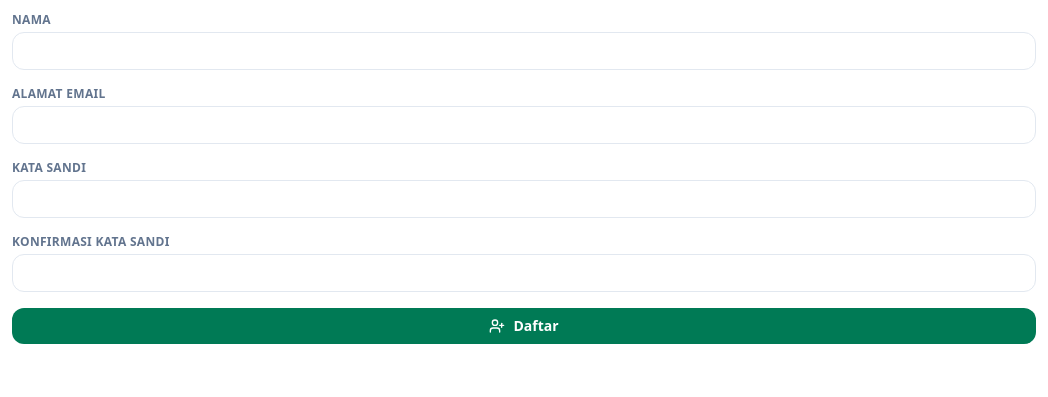
Test: RegisterPage › validasi: konfirmasi tidak cocok
The width and height of the screenshot is (1048, 397).
Type "A" into the field with id "name" at (524, 51), box [12,32,1036,70]
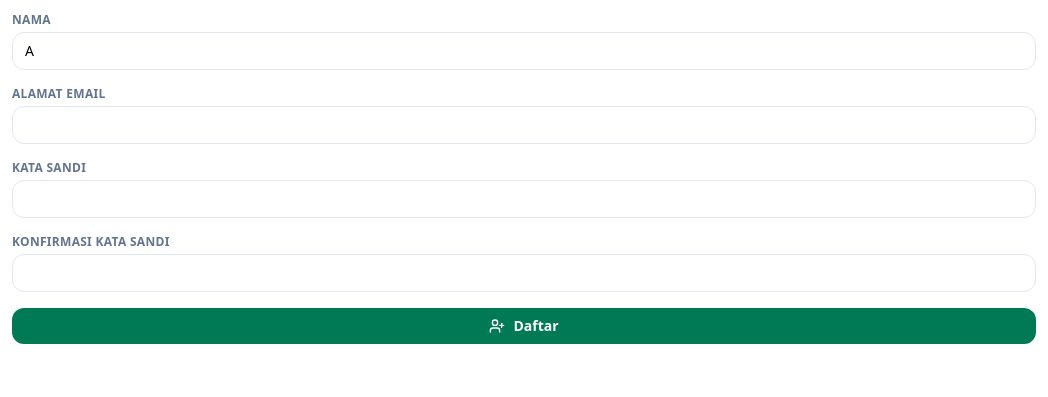
Type "a@b.c" into the field with id "email" at (524, 125), box [12,106,1036,144]
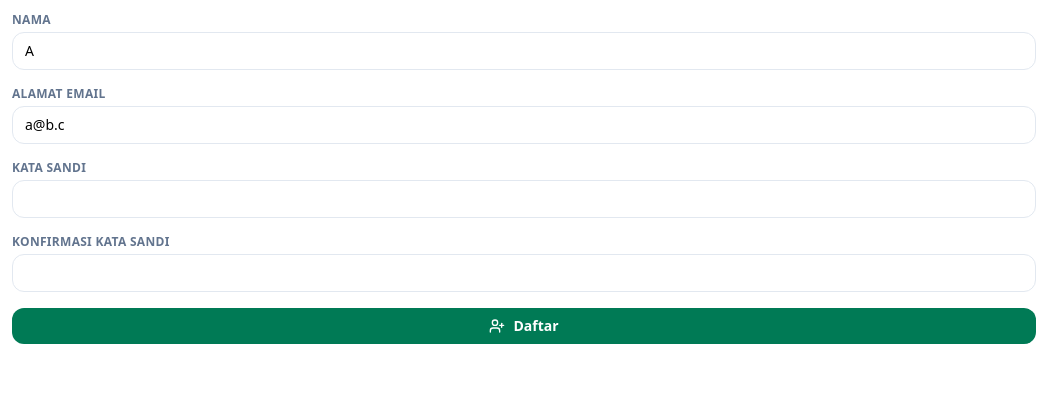
Type "123456" into the password field labelled "Kata Sandi" at (524, 199), box [12,180,1036,218]
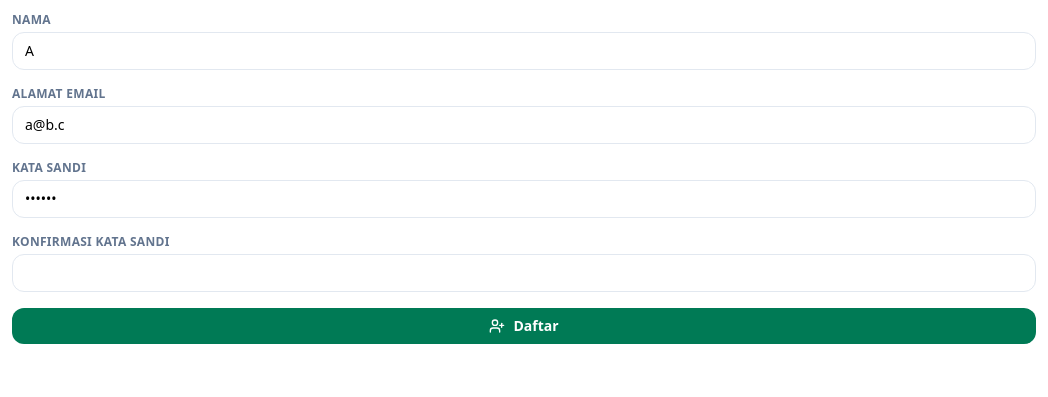
Type "654321" into the password field with id "confirm" at (524, 273), box [12,254,1036,292]
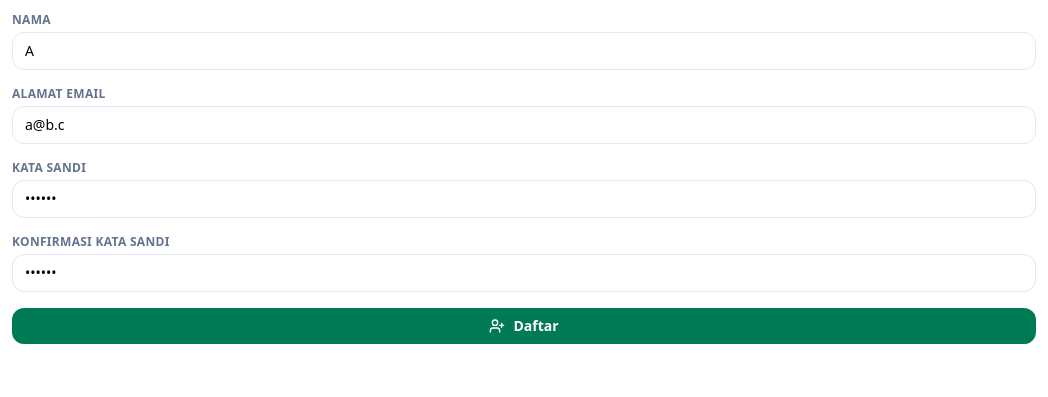
Submit the form
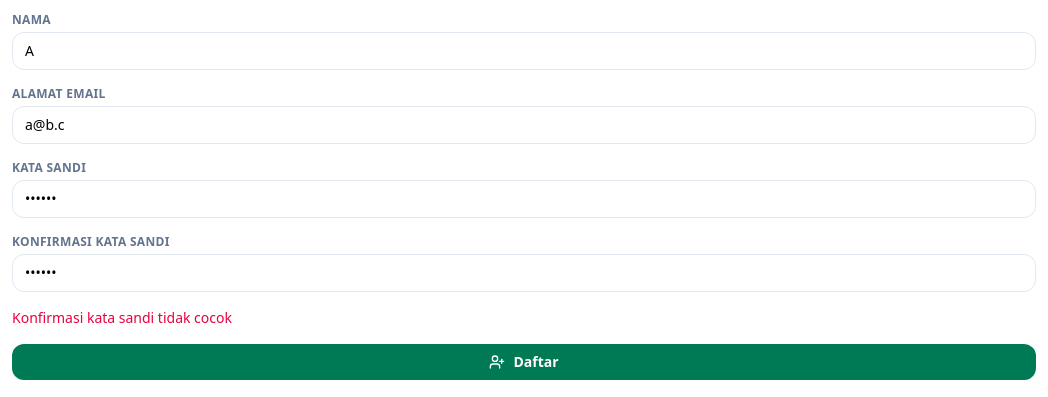
Check: the form shows "Konfirmasi kata sandi tidak cocok", box [12,308,232,327]
